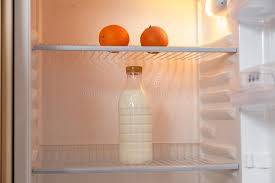milk: (117, 58, 159, 164)
